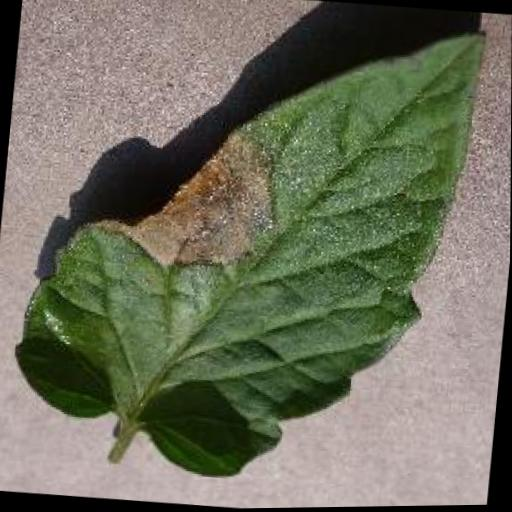Late Blight: (3, 0, 487, 503)
